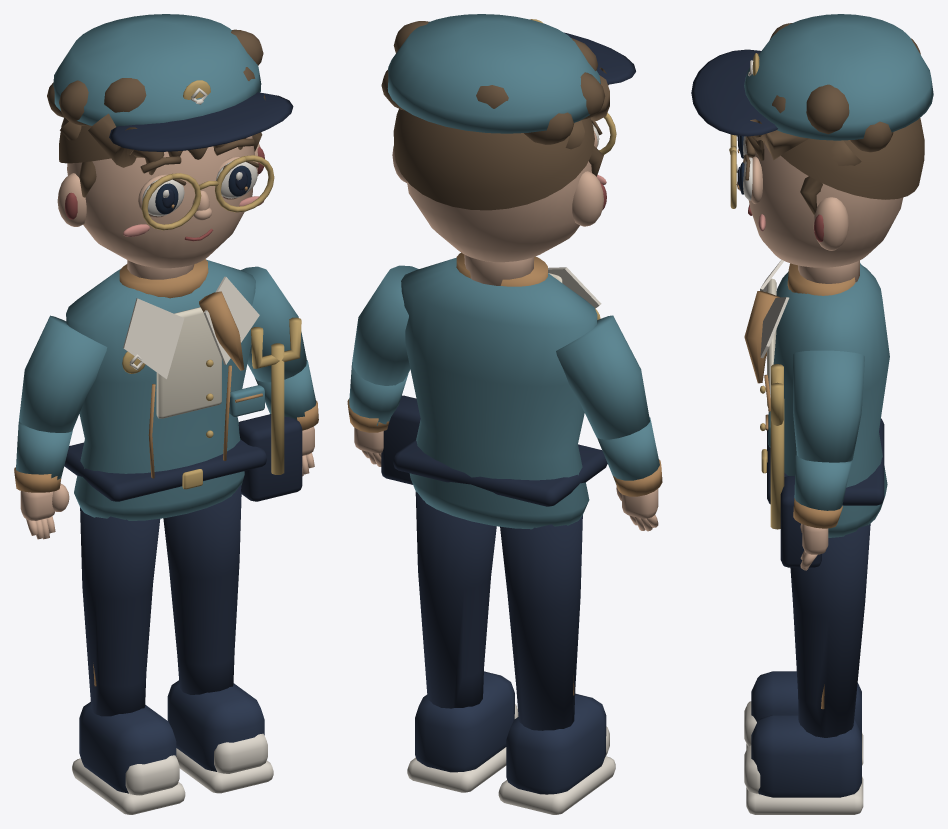
The model's file is npc_survivalridge_trainer_3.glb.
3 views of the same model, side by side, from view 1: azimuth 30°, elevation 25°; view 2: azimuth 150°, elevation 25°; view 3: azimuth 270°, elevation 25° (orthographic). The views are drawn at different scales.
Parts seen in each view (by area): view 1: figure.070; view 2: figure.070; view 3: figure.070.
Boxes of the visible parts, left/top/right/bottom form: figure.070: left=14, top=14, right=318, bottom=814; figure.070: left=347, top=14, right=662, bottom=814; figure.070: left=691, top=14, right=933, bottom=814.
Bounding box in the file's own units: 0.6711 × 1.58 × 0.4673.
